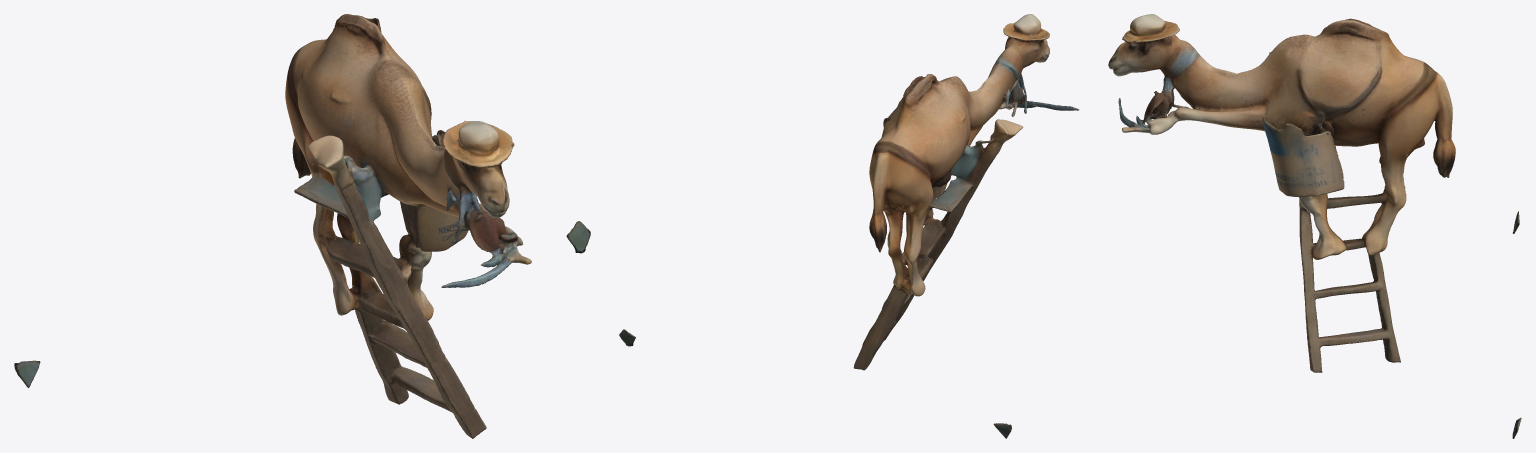
File: camel.glb
3 views of the same model, side by side, from view 1: azimuth 30°, elevation 25°; view 2: azimuth 150°, elevation 25°; view 3: azimuth 270°, elevation 25° (orthographic). The views are drawn at different scales.
Visible parts, largest first — view 1: Mesh_0; view 2: Mesh_0; view 3: Mesh_0.
Part boxes in pixels (x1,y1,x2,y2): Mesh_0: [14, 14, 590, 438]; Mesh_0: [619, 14, 1079, 438]; Mesh_0: [1108, 14, 1521, 438].
Bounding box in the file's own units: 2 × 1.4 × 1.64.
1 material, 1 textured.
